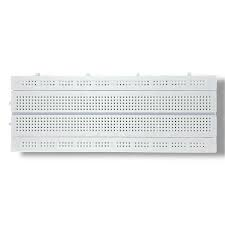breadboard: (16, 86, 219, 158)
